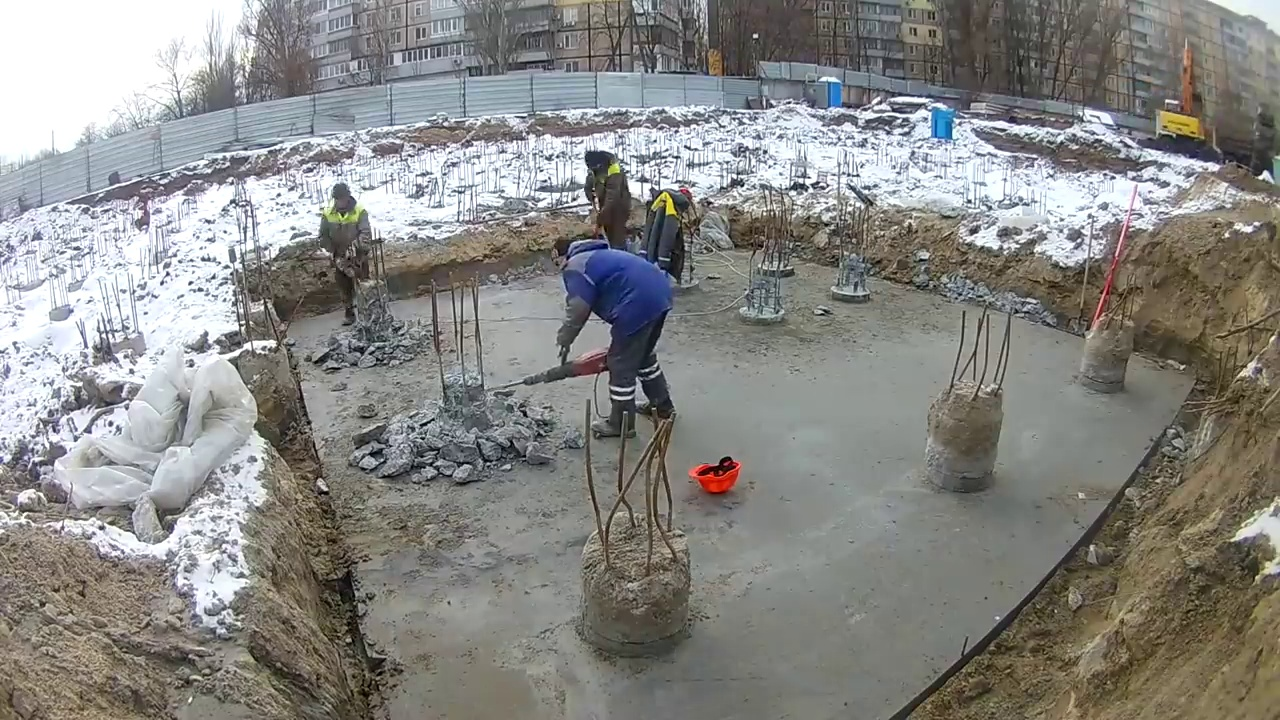helmet: (690, 456, 741, 497), (678, 187, 693, 203)
helmet-off: (555, 238, 601, 261), (583, 151, 610, 176), (332, 183, 351, 208)
person: (546, 239, 674, 439), (317, 184, 374, 326), (581, 148, 631, 255)
